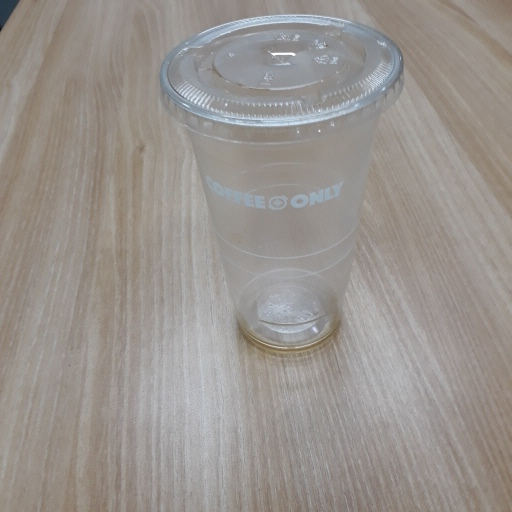Plastic_2: (159, 13, 413, 355)
